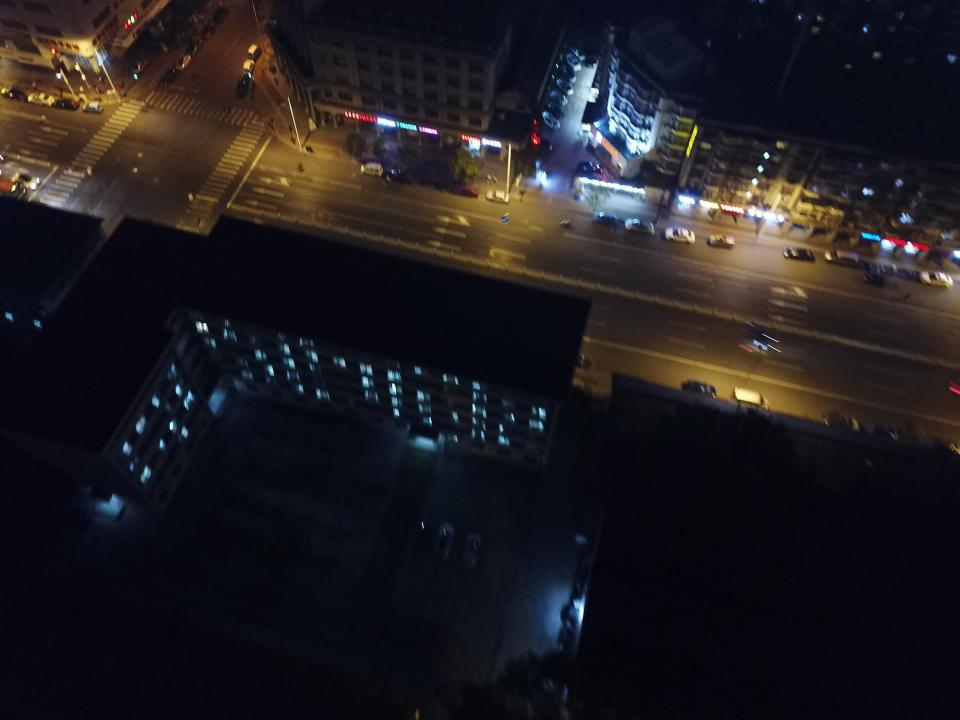car: (461, 532, 482, 569), (824, 415, 860, 434), (413, 519, 433, 552), (682, 381, 716, 400), (920, 271, 953, 289), (864, 422, 895, 441), (625, 218, 655, 236), (12, 172, 40, 190), (665, 227, 695, 243), (782, 247, 815, 261), (451, 183, 480, 198), (27, 92, 54, 107), (0, 87, 26, 101), (593, 211, 619, 224), (52, 98, 80, 110), (236, 73, 252, 94), (485, 191, 510, 204), (862, 272, 886, 285), (161, 68, 178, 86), (557, 79, 573, 97), (199, 23, 218, 38), (130, 57, 147, 73), (174, 54, 190, 70), (82, 102, 103, 114), (184, 40, 200, 55), (571, 44, 586, 60)
van: (728, 388, 770, 415), (434, 523, 454, 561), (824, 250, 859, 266), (386, 170, 416, 187), (545, 102, 564, 122), (709, 234, 734, 247), (542, 111, 560, 129), (564, 53, 582, 71), (558, 65, 576, 81), (361, 163, 383, 176), (587, 47, 600, 68), (549, 91, 567, 105), (247, 44, 262, 60), (241, 60, 254, 72)
